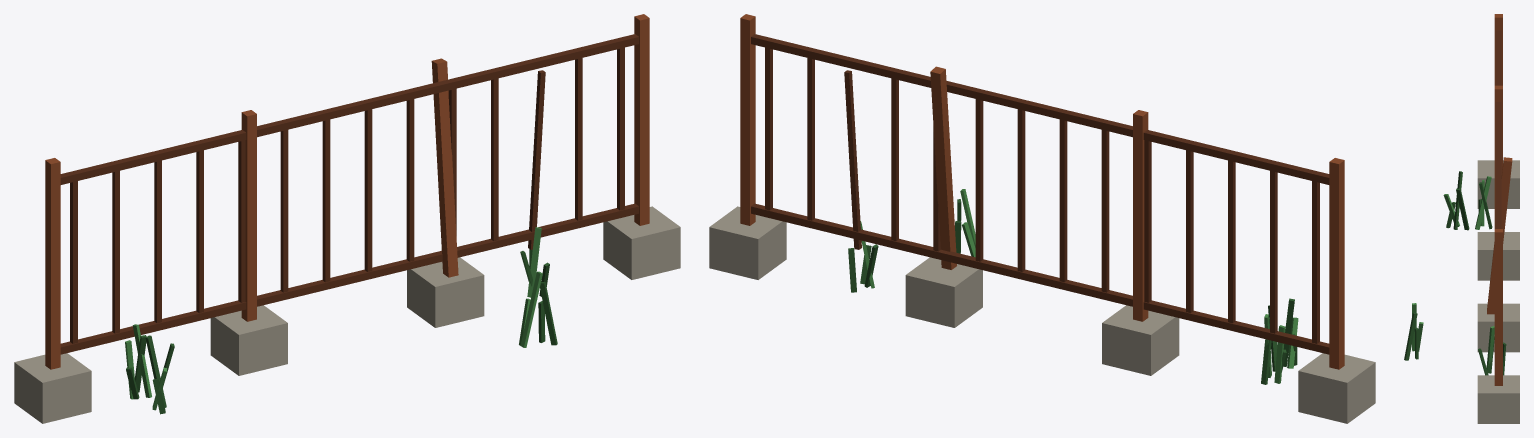
File: ChemPlant_Fence.fbx
3 renders of one model, left to right at view 1: azimuth 30°, elevation 25°; view 2: azimuth 150°, elevation 25°; view 3: azimuth 270°, elevation 25°, orthographic. The views are drawn at different scales.
Visible parts, largest first — view 1: ChemPlant_Fence; view 2: ChemPlant_Fence; view 3: ChemPlant_Fence.
Boxes of the visible parts, x1,y1,x2,y2 form: ChemPlant_Fence: [14, 14, 680, 423]; ChemPlant_Fence: [709, 14, 1375, 423]; ChemPlant_Fence: [1404, 14, 1519, 423].
Bounding box in the file's own units: 650 × 240 × 137.
